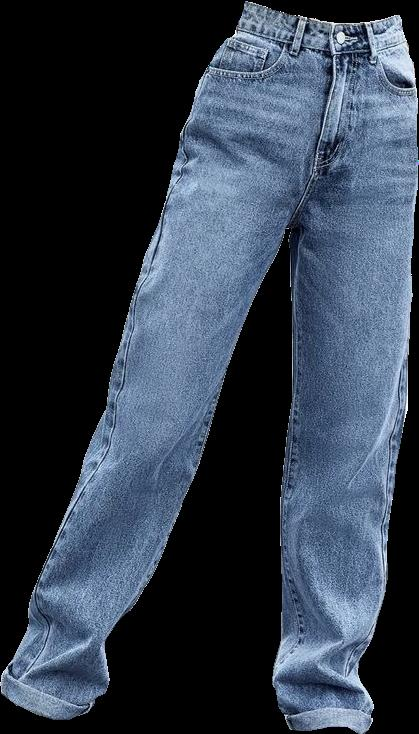Hemline: (0, 682, 89, 723), (292, 723, 367, 733)
Pantleg: (0, 1, 337, 719), (272, 15, 417, 733)
Waistline: (232, 27, 409, 55), (244, 0, 401, 27)
